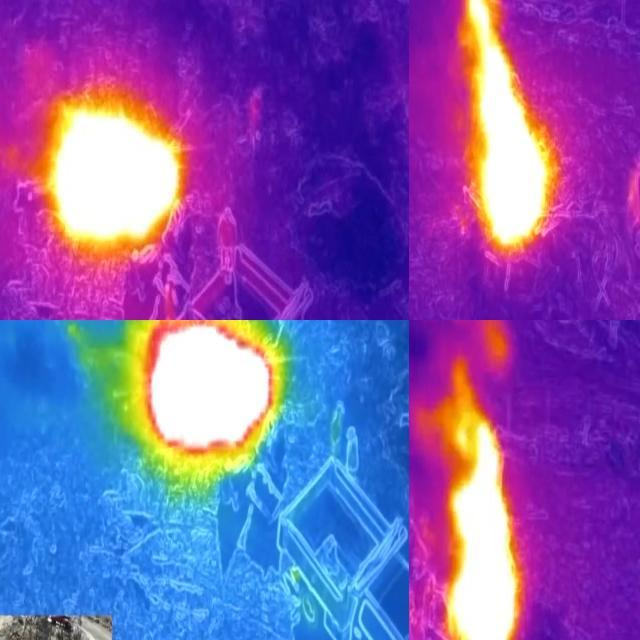fire: (418, 362, 527, 640), (115, 321, 291, 487), (44, 81, 189, 261), (464, 1, 557, 257)
